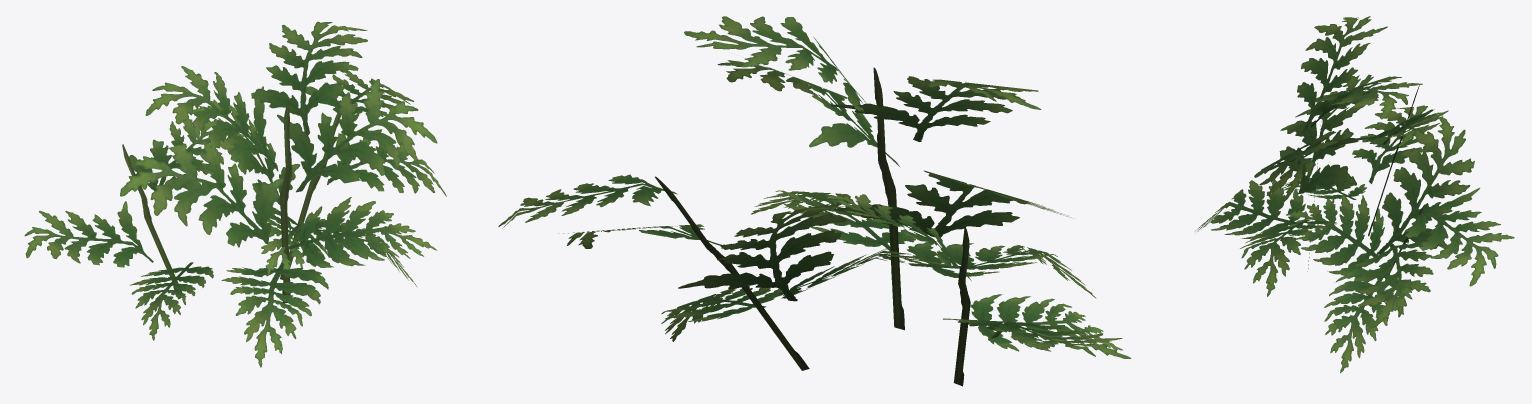
Rendered from zhiwu_11.FBX.
The picture shows the model from 3 angles, left to right: view 1: azimuth 30°, elevation 25°; view 2: azimuth 150°, elevation 25°; view 3: azimuth 270°, elevation 25°; orthographic projection. The views are drawn at different scales.
Parts seen in each view (by area): view 1: zhiwu_11; view 2: zhiwu_11; view 3: zhiwu_11.
Part boxes in pixels (<box>): zhiwu_11: <box>24,21,446,367</box>; zhiwu_11: <box>498,16,1131,386</box>; zhiwu_11: <box>1195,16,1514,373</box>.
Size of the model in its own units: 169 by 103 by 118.
